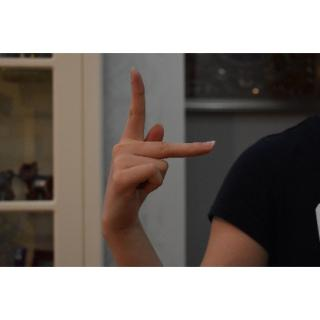DHAA: (96, 61, 222, 240)
